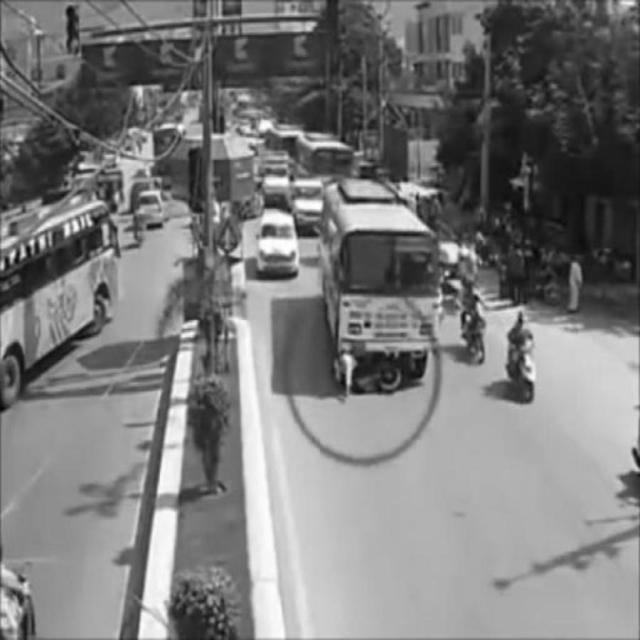accident: (323, 183, 435, 400)
vehicle: (504, 311, 538, 402), (259, 206, 300, 276), (458, 275, 488, 366)
